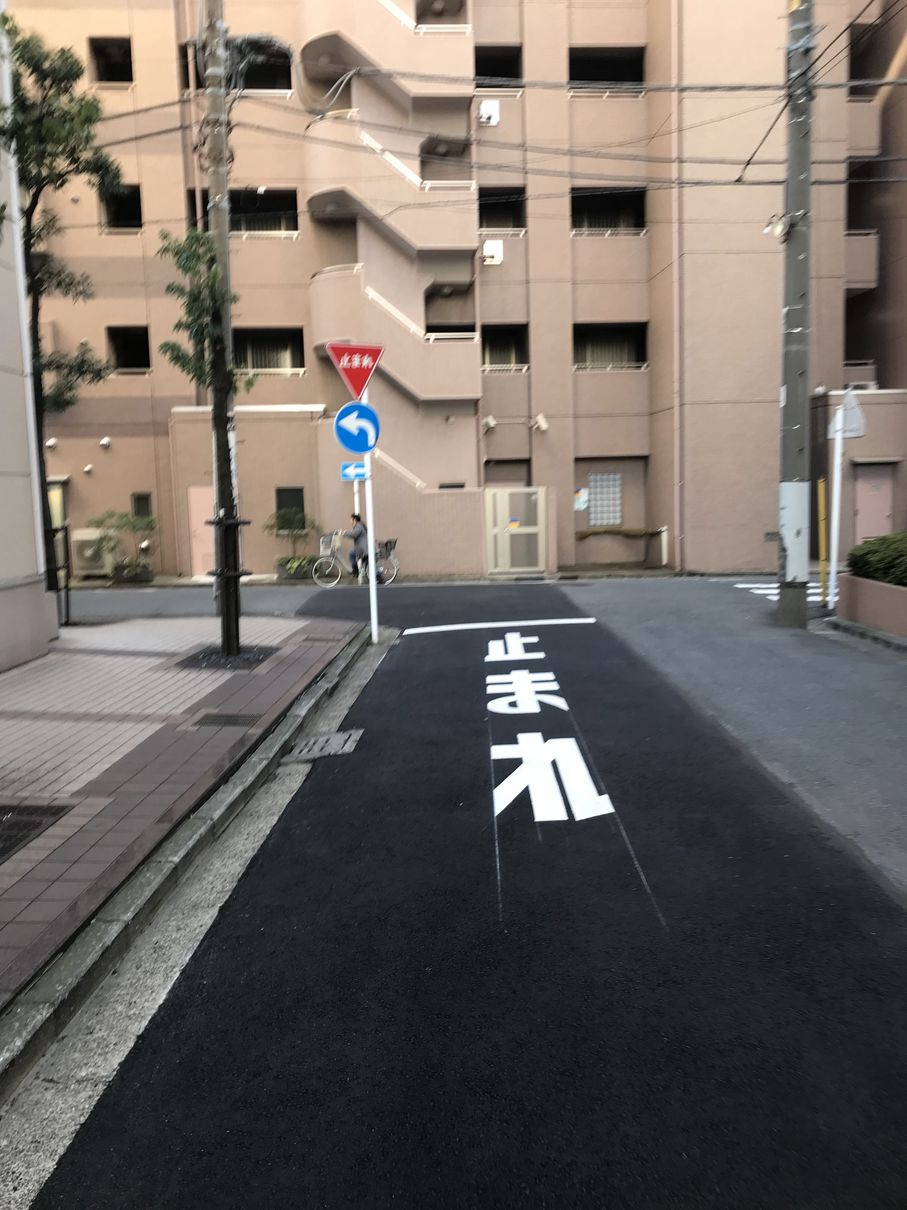stop_sign: (324, 340, 385, 400)
